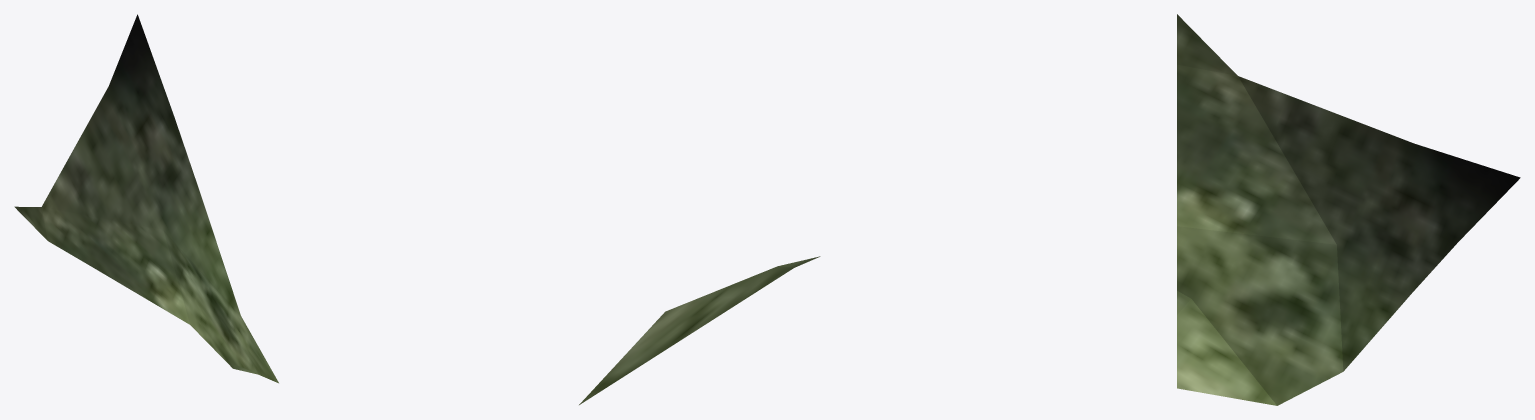
The picture shows the model from 3 angles, left to right: view 1: azimuth 30°, elevation 25°; view 2: azimuth 150°, elevation 25°; view 3: azimuth 270°, elevation 25°; orthographic projection. The views are drawn at different scales.
Size of the model in its own units: 5.13 by 4.52 by 5.5.
1 material, 1 textured.
